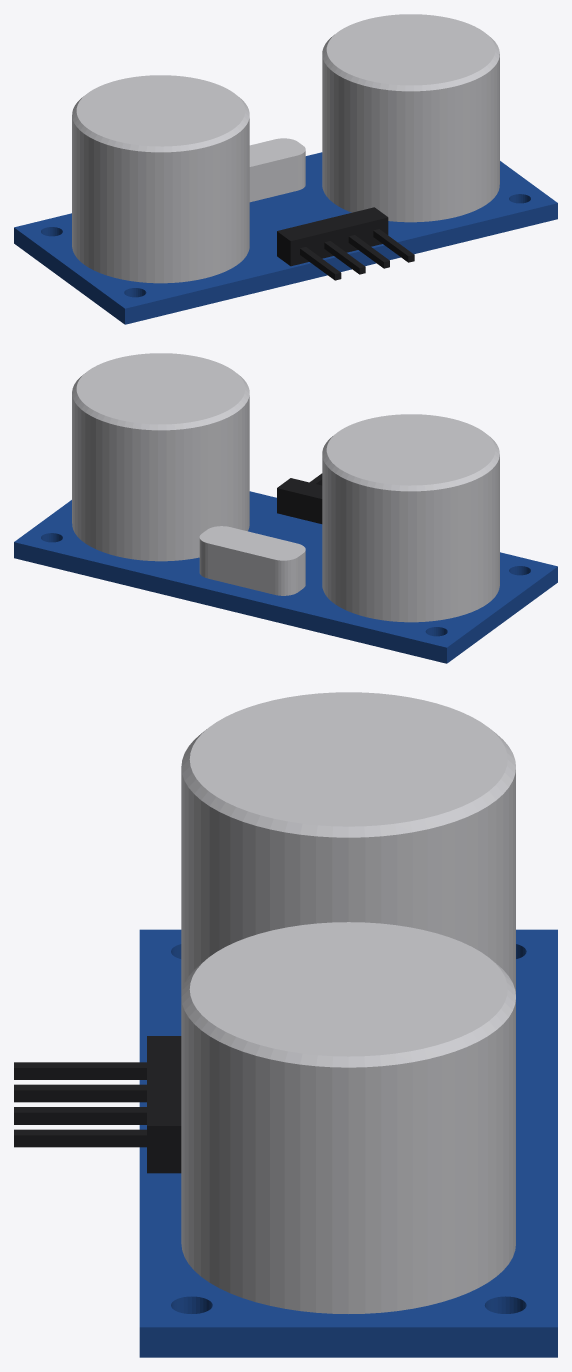
3 renders of one model, top to bottom at view 1: azimuth 30°, elevation 25°; view 2: azimuth 150°, elevation 25°; view 3: azimuth 270°, elevation 25°, orthographic. The views are drawn at different scales.
Parts seen in each view (by area): view 1: hc-sr04; view 2: hc-sr04; view 3: hc-sr04.
Part boxes in pixels (x1,y1,x2,y2): hc-sr04: (14,14,557,324); hc-sr04: (14,353,557,663); hc-sr04: (14,692,557,1357).
Size of the model in its own units: 45 by 15 by 26.
